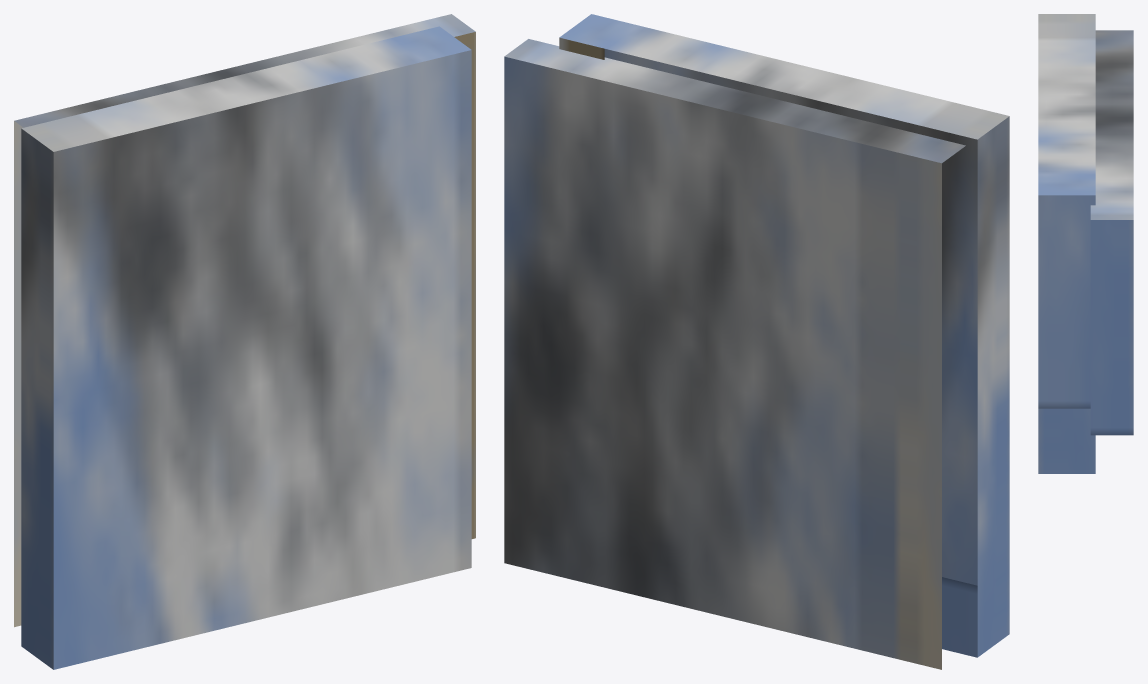
Rendered from section-2.obj.
3 renders of one model, left to right at view 1: azimuth 30°, elevation 25°; view 2: azimuth 150°, elevation 25°; view 3: azimuth 270°, elevation 25°, orthographic. The views are drawn at different scales.
Size of the model in its own units: 0.8528 by 0.9345 by 0.1753.
